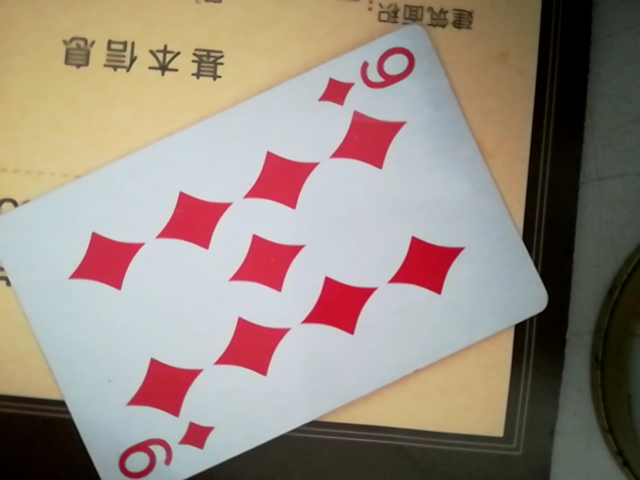fk 9: (0, 29, 564, 477)
